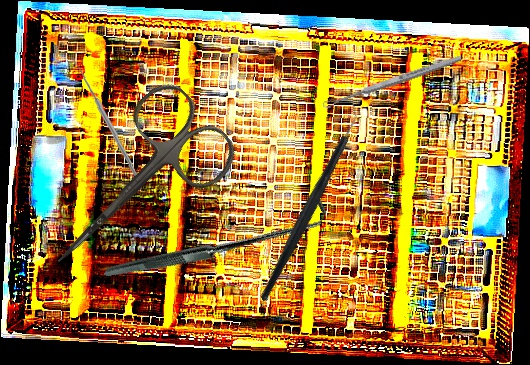Chopper: (202, 97, 415, 303)
Hook Surgical: (103, 126, 331, 353), (59, 57, 149, 186)
Iris Scissors: (17, 74, 246, 301)
Surgical Spoon: (321, 53, 464, 110)
